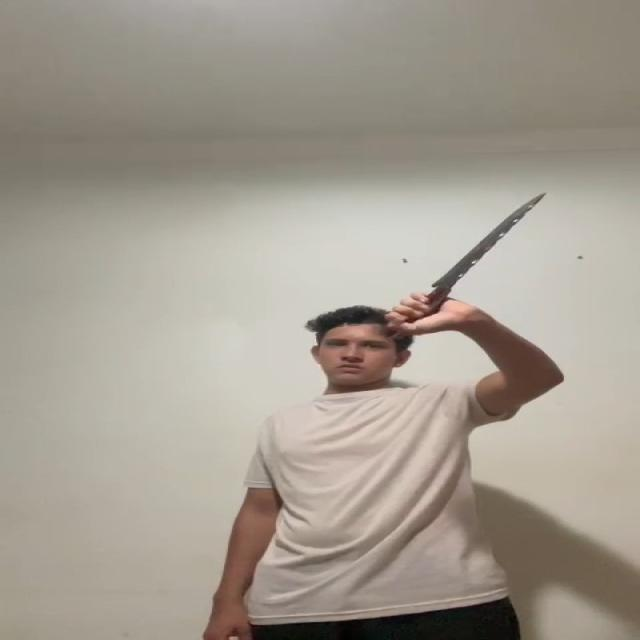knife: (430, 194, 545, 292)
